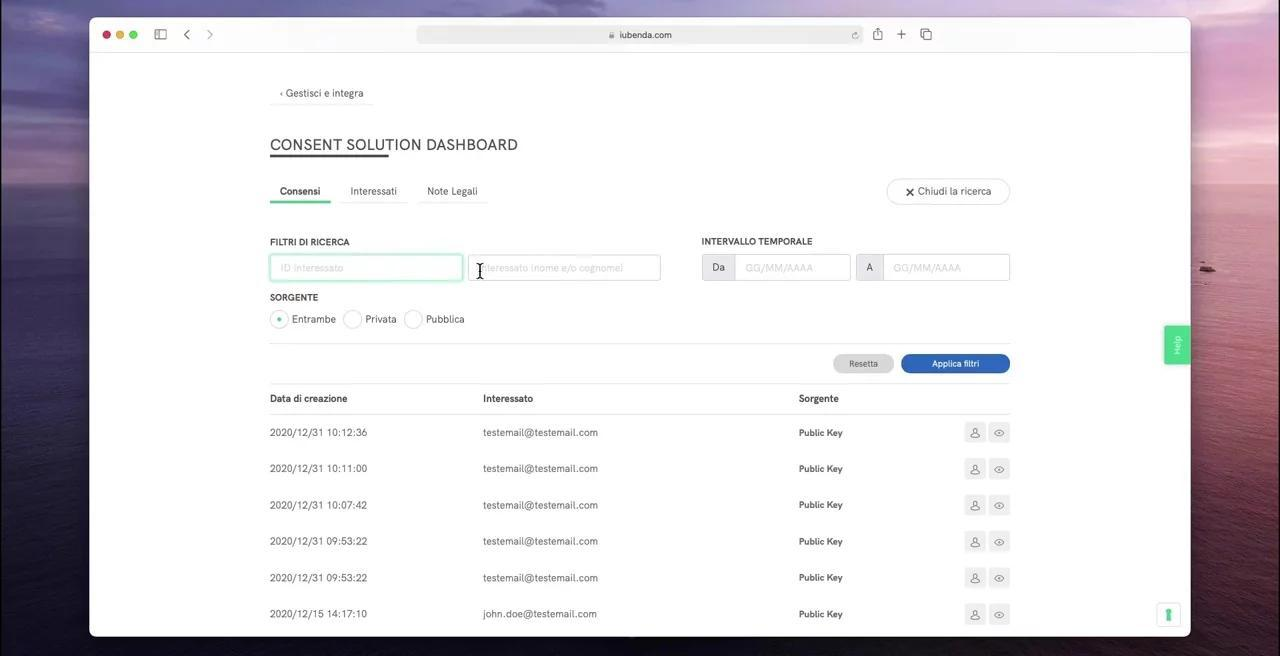button: (902, 355, 1013, 375), (835, 356, 896, 375)
icon: (963, 603, 988, 626), (964, 458, 989, 480), (964, 495, 987, 518), (990, 422, 1011, 444), (967, 532, 987, 554), (966, 570, 988, 590), (967, 423, 987, 444), (990, 570, 1011, 590), (991, 604, 1009, 626), (992, 497, 1011, 517), (990, 534, 1009, 554), (992, 460, 1010, 479)
input: (470, 255, 664, 284), (269, 254, 462, 283), (885, 256, 1012, 281), (737, 256, 853, 282)
label: (270, 139, 524, 153), (887, 183, 1012, 207), (704, 234, 821, 252), (268, 236, 352, 251), (423, 184, 486, 201), (427, 311, 472, 331), (292, 311, 340, 329), (364, 310, 400, 332), (271, 291, 324, 305), (350, 184, 399, 198)
radio: (404, 309, 424, 331), (271, 310, 290, 330), (344, 311, 362, 332)
table: (267, 386, 1018, 635)
